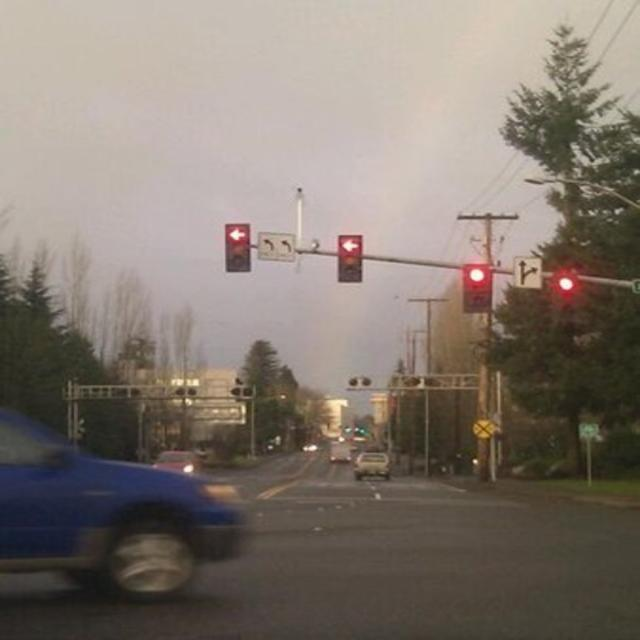traffic light: (464, 263, 492, 313), (224, 224, 250, 274), (338, 236, 362, 282)
